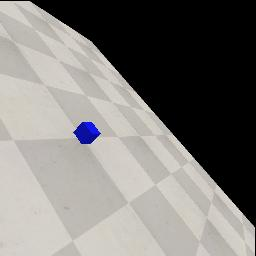box: (73, 122, 101, 144)
